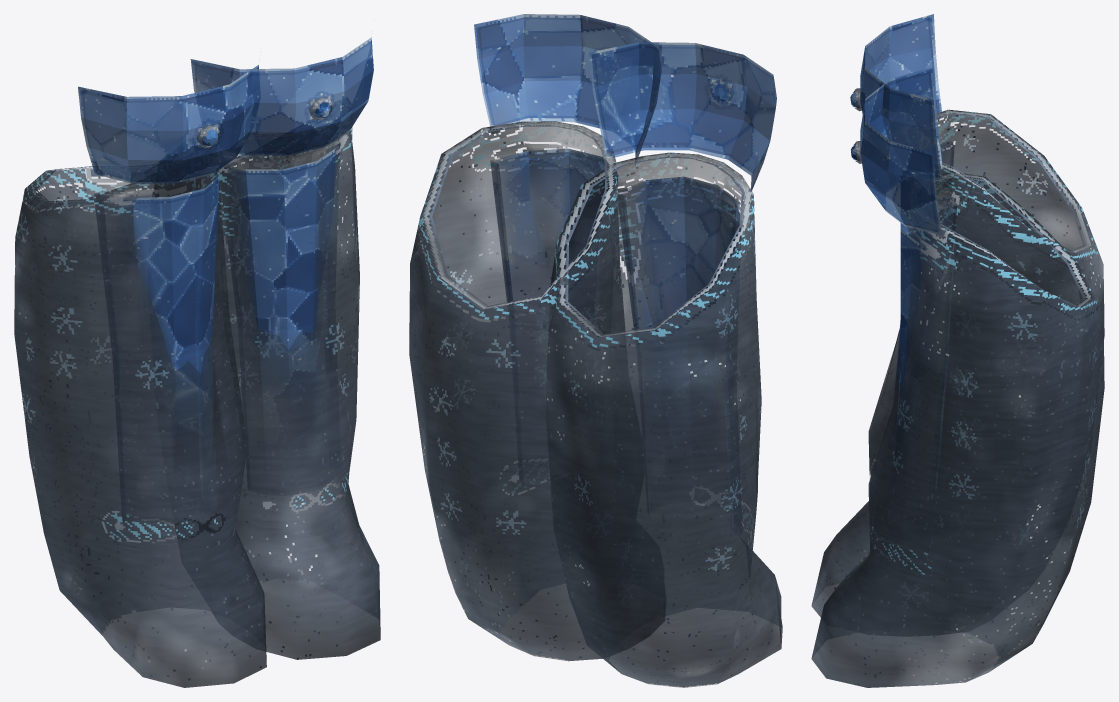
The model's file is bottes_saphir_enchante.glb.
The picture shows the model from 3 angles, left to right: view 1: azimuth 30°, elevation 25°; view 2: azimuth 150°, elevation 25°; view 3: azimuth 270°, elevation 25°; orthographic projection. The views are drawn at different scales.
Parts seen in each view (by area): view 1: bottes_saphir.001; view 2: bottes_saphir.001; view 3: bottes_saphir.001.
Part boxes in pixels (x1=…): bottes_saphir.001: x1=14, y1=37, x2=380, y2=687; bottes_saphir.001: x1=409, y1=14, x2=782, y2=687; bottes_saphir.001: x1=811, y1=14, x2=1104, y2=687.
Size of the model in its own units: 0.3594 by 0.6244 by 0.3022.
Materials: 5 (5 with a texture image).
